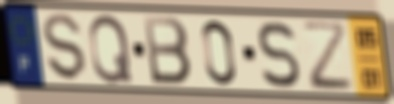0: (200, 18, 238, 87)
B: (141, 13, 195, 88)
Q: (87, 12, 135, 86)
S: (40, 12, 89, 83), (256, 19, 303, 90)
Z: (298, 20, 357, 94)
